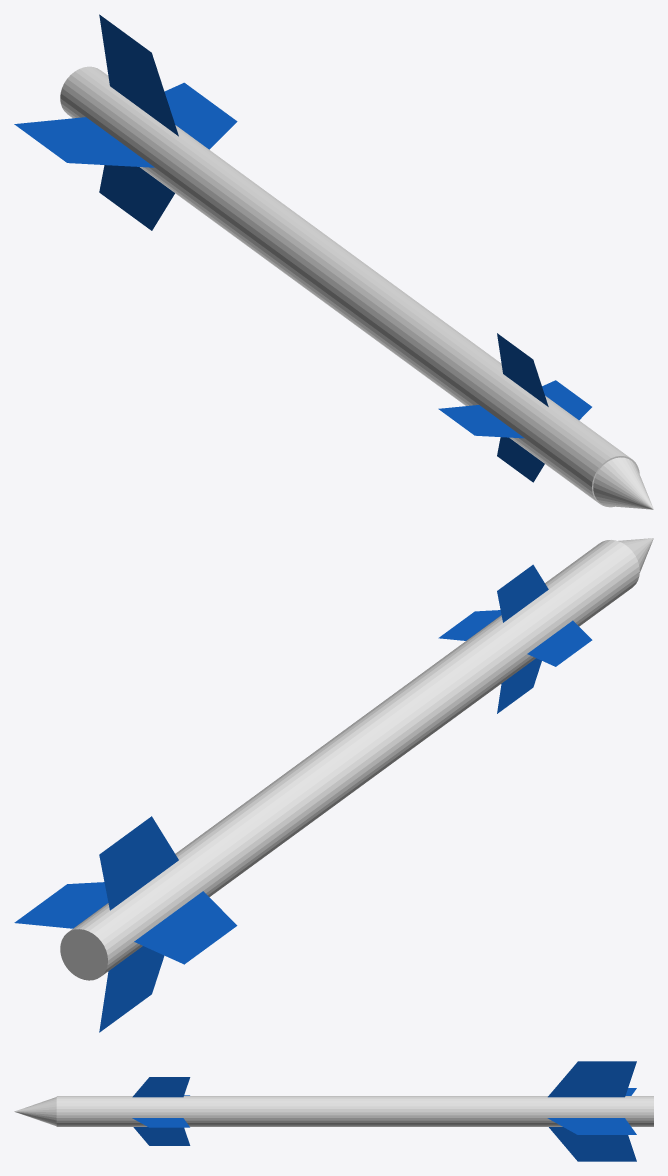
The model's file is missile.glb.
3 renders of one model, top to bottom at view 1: azimuth 30°, elevation 25°; view 2: azimuth 150°, elevation 25°; view 3: azimuth 270°, elevation 25°, orthographic. The views are drawn at different scales.
Parts seen in each view (by area): view 1: Cylinder; view 2: Cylinder; view 3: Cylinder.
Boxes of the visible parts, left/top/right/bottom form: Cylinder: left=14, top=14, right=653, bottom=509; Cylinder: left=14, top=538, right=653, bottom=1032; Cylinder: left=14, top=1061, right=653, bottom=1161.
Bounding box in the file's own units: 0.6466 × 0.6466 × 3.75.
1 material, 1 textured.
